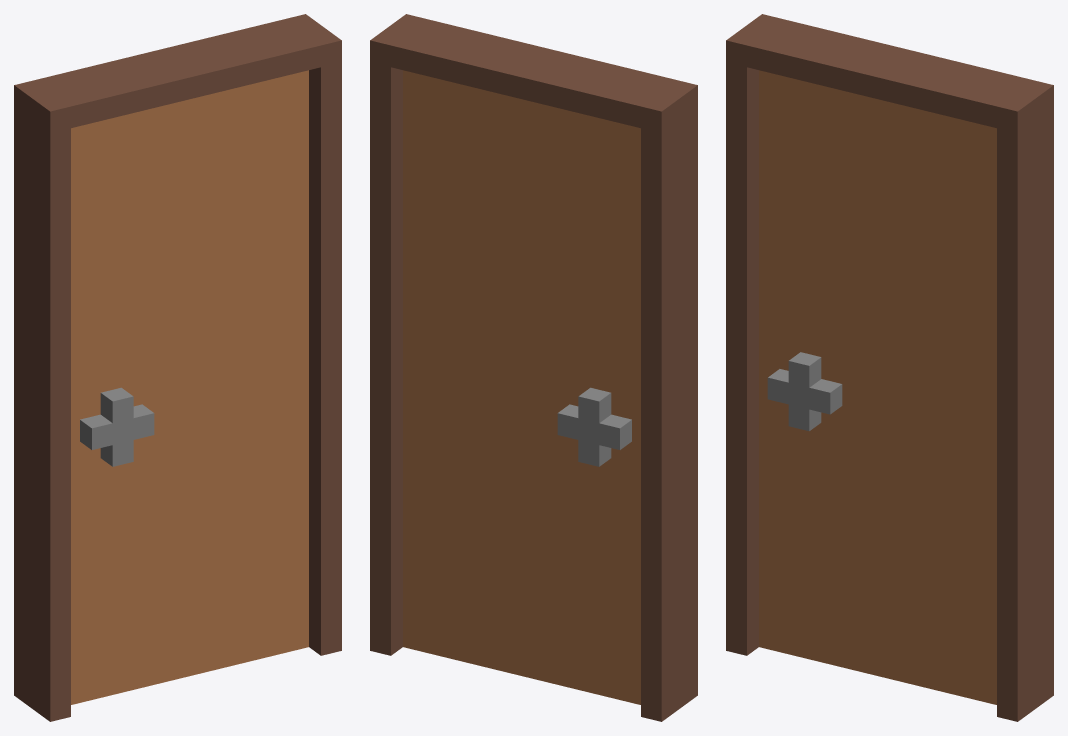
The model's file is Door.glb.
3 views of the same model, side by side, from view 1: azimuth 30°, elevation 25°; view 2: azimuth 150°, elevation 25°; view 3: azimuth 330°, elevation 25° (orthographic).
Visible parts, largest first — view 1: Untitled; view 2: Untitled; view 3: Untitled.
Boxes of the visible parts, x1=… form: Untitled: x1=14, y1=14, x2=341, y2=721; Untitled: x1=370, y1=14, x2=697, y2=721; Untitled: x1=726, y1=14, x2=1053, y2=721.
Bounding box in the file's own units: 1.4 × 2.8 × 0.3.
Materials: 1 (1 with a texture image).
